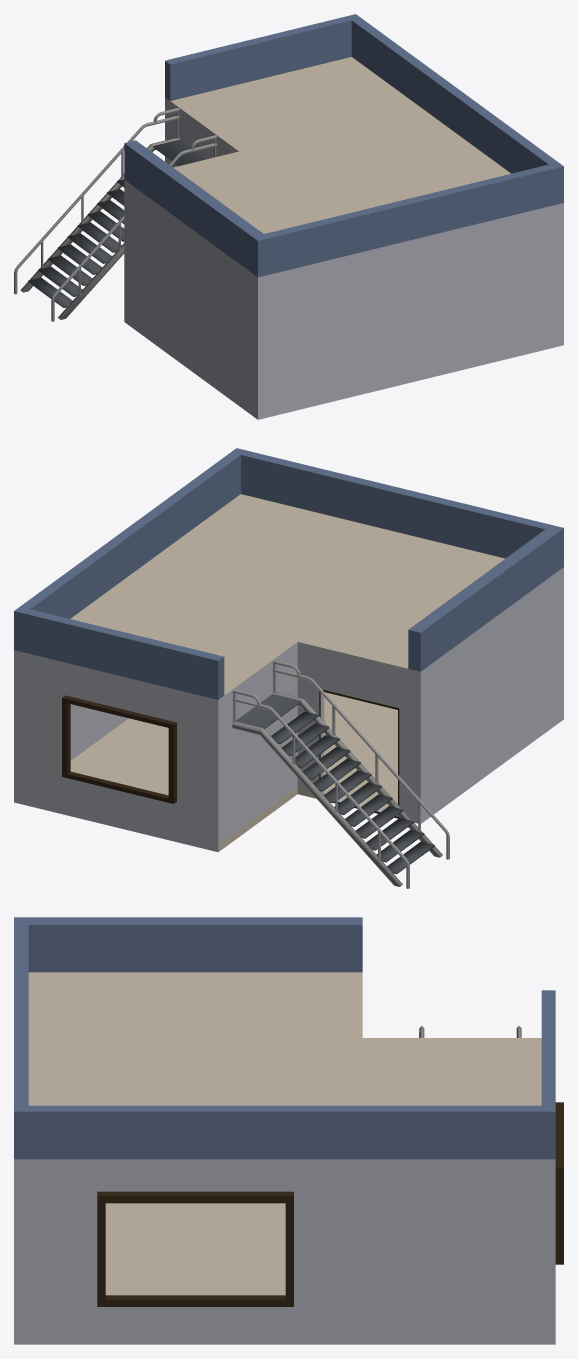
Rendered from house-2.fbx.
3 renders of one model, top to bottom at view 1: azimuth 30°, elevation 25°; view 2: azimuth 150°, elevation 25°; view 3: azimuth 270°, elevation 25°, orthographic. The views are drawn at different scales.
Visible parts, largest first — view 1: house.002; view 2: house.002; view 3: house.002.
Boxes of the visible parts, bbox=[...] form: house.002: bbox=[14, 14, 563, 419]; house.002: bbox=[14, 448, 563, 888]; house.002: bbox=[14, 917, 563, 1344].
Bounding box in the file's own units: 18.4 × 8.86 × 18.56.
